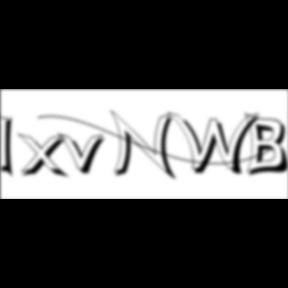I: (1, 110, 22, 182)
N: (110, 109, 180, 183)
W: (167, 110, 265, 178)
v: (58, 131, 112, 177)
x: (18, 132, 72, 181)
